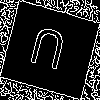U: (24, 25, 69, 80)
